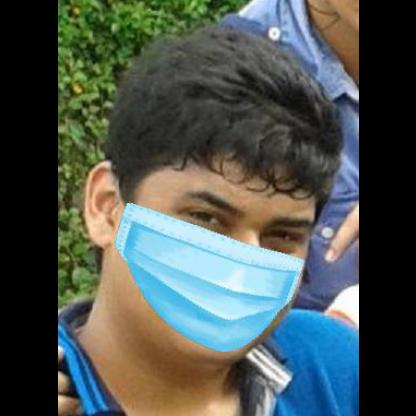Surgical Mask: (127, 152, 306, 350)
